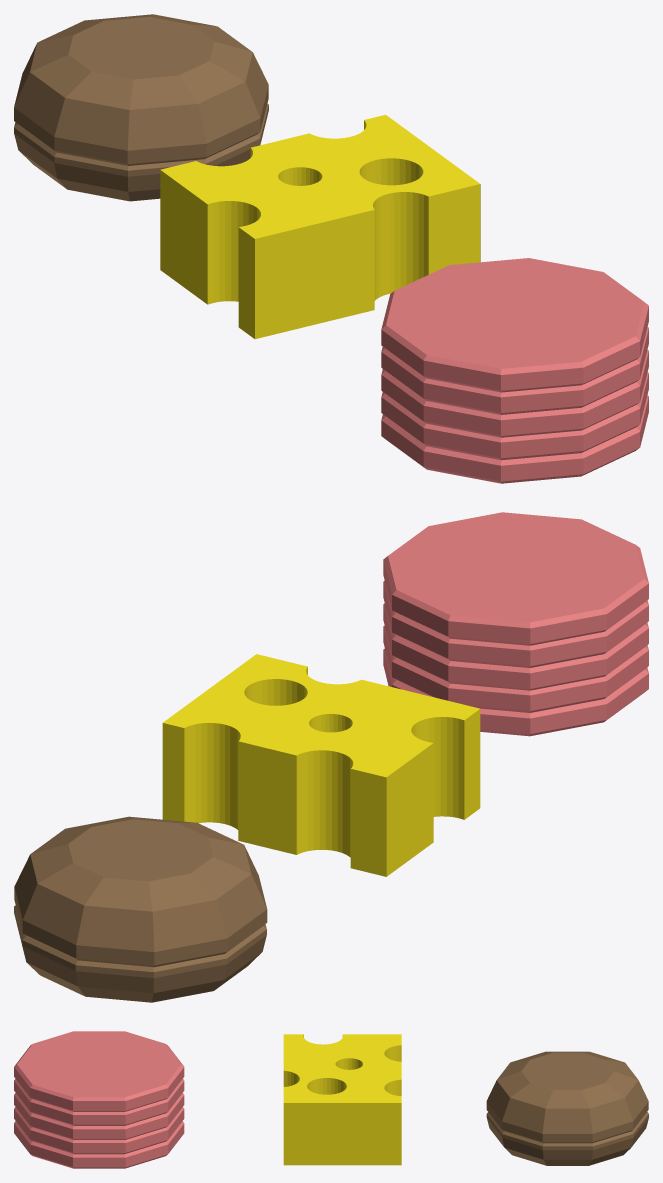
The model's file is Food 2.fbx.
The picture shows the model from 3 angles, top to bottom: view 1: azimuth 30°, elevation 25°; view 2: azimuth 150°, elevation 25°; view 3: azimuth 270°, elevation 25°; orthographic projection. The views are drawn at different scales.
Visible parts, largest first — view 1: Cylinder.007, Cube.005, Cylinder.002; view 2: Cube.005, Cylinder.007, Cylinder.002; view 3: Cylinder.007, Cube.005, Cylinder.002.
Part boxes in pixels (bbox=[...]): Cylinder.007: bbox=[381, 258, 648, 483]; Cube.005: bbox=[160, 114, 480, 339]; Cylinder.002: bbox=[14, 14, 268, 201]; Cube.005: bbox=[162, 654, 480, 876]; Cylinder.007: bbox=[383, 512, 648, 736]; Cylinder.002: bbox=[14, 816, 267, 1002]; Cylinder.007: bbox=[14, 1031, 184, 1168]; Cube.005: bbox=[283, 1034, 401, 1165]; Cylinder.002: bbox=[486, 1051, 648, 1165].
Bounding box in the file's own units: 200 × 99.47 × 783.
